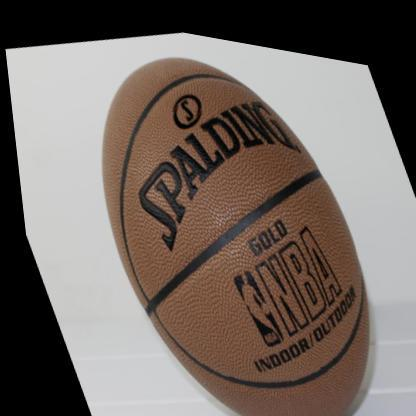basketball: (43, 6, 416, 416)
